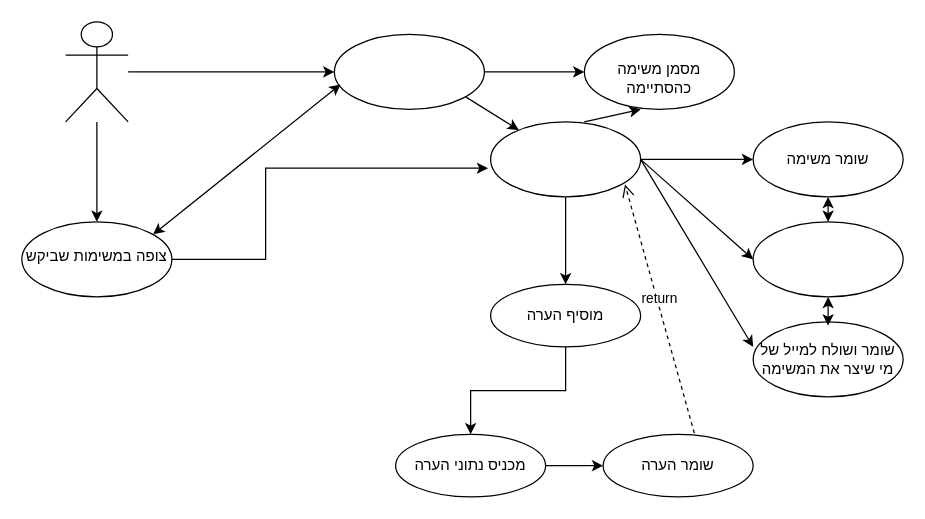
The diagram is 925 pixels wide and 519 high, and some of its shapes have lost their labels. Here are the shapes that lost their labels. From the top down, the centre of each, then its label:
At (x=96, y=71): "עובד".
At (x=408, y=71): "צופה במשימות שלו".
At (x=565, y=159): "עורך פרטי משימה".
At (x=827, y=259): "שומר שולח למייל".
